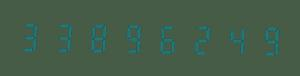eight: (83, 18, 115, 55)
four: (215, 21, 247, 57)
nine: (248, 21, 280, 58), (116, 19, 148, 55)
six: (149, 19, 181, 56)
three: (17, 17, 49, 54), (50, 18, 82, 54)
two: (182, 20, 214, 57)
